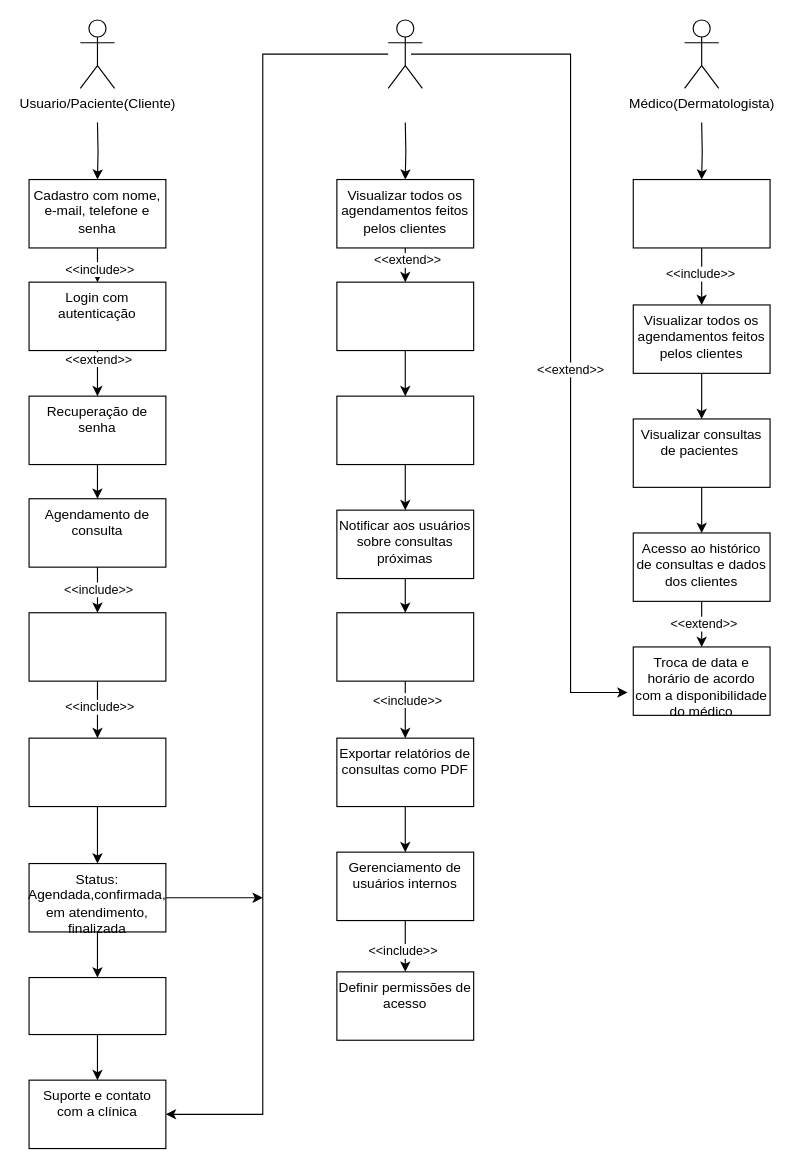
The diagram is 793 pixels wide and 1169 high, and some of its shapes have lost their labels. The box of each missing label's shape, as (x1, y1, x2, y2) in pixels:
Acesso a dados do cliente registrado: (336, 395, 474, 465)
Acompanhamento de agendamento: (28, 737, 166, 807)
Administrador da clínica(Recepcionista): (387, 19, 422, 88)
Confirmar, remarcar ou cancelar consultas: (336, 281, 474, 351)
Escolha de data, horário e tipo de atendimento: (28, 612, 166, 681)
Painel de estatísticas e relatórios: (336, 612, 474, 681)
Perfil do usuario: (28, 976, 166, 1035)
Visualizar agenda: (632, 178, 770, 248)
